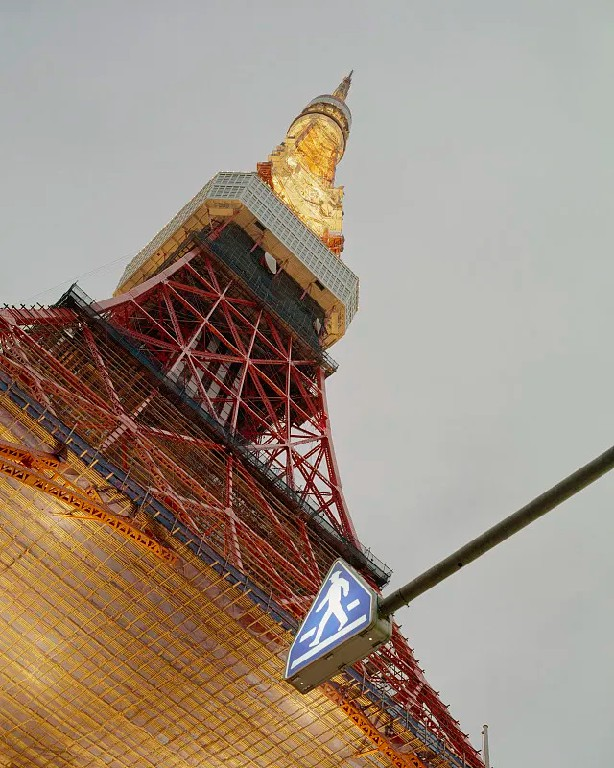Tokyo: (1, 64, 484, 764)
